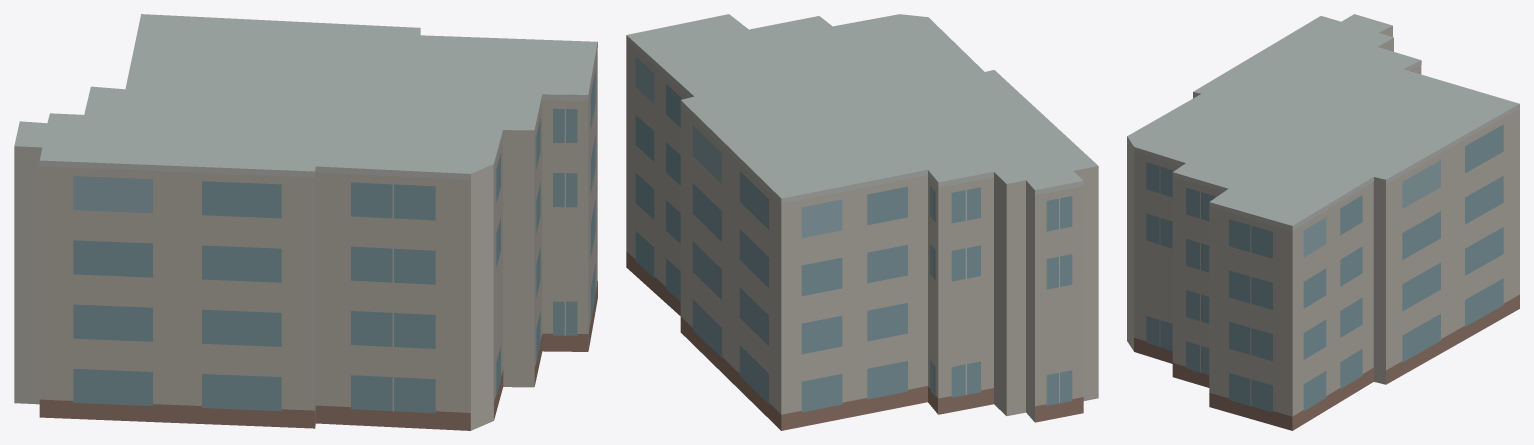
Rendered from survey-upis-33008576.glb.
3 views of the same model, side by side, from view 1: azimuth 30°, elevation 25°; view 2: azimuth 150°, elevation 25°; view 3: azimuth 270°, elevation 25° (orthographic). The views are drawn at different scales.
Visible parts, largest first — view 1: survey-upis-33008576.tmp; view 2: survey-upis-33008576.tmp; view 3: survey-upis-33008576.tmp.
Part boxes in pixels (x1=…): survey-upis-33008576.tmp: x1=14, y1=14, x2=597, y2=430; survey-upis-33008576.tmp: x1=626, y1=14, x2=1098, y2=430; survey-upis-33008576.tmp: x1=1127, y1=14, x2=1519, y2=430.
Size of the model in its own units: 23.74 by 10.7 by 18.59.
